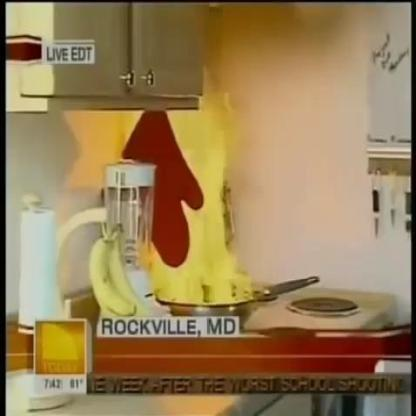fire: (138, 107, 266, 308)
